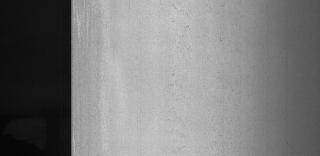silk spot: (162, 1, 204, 129)
